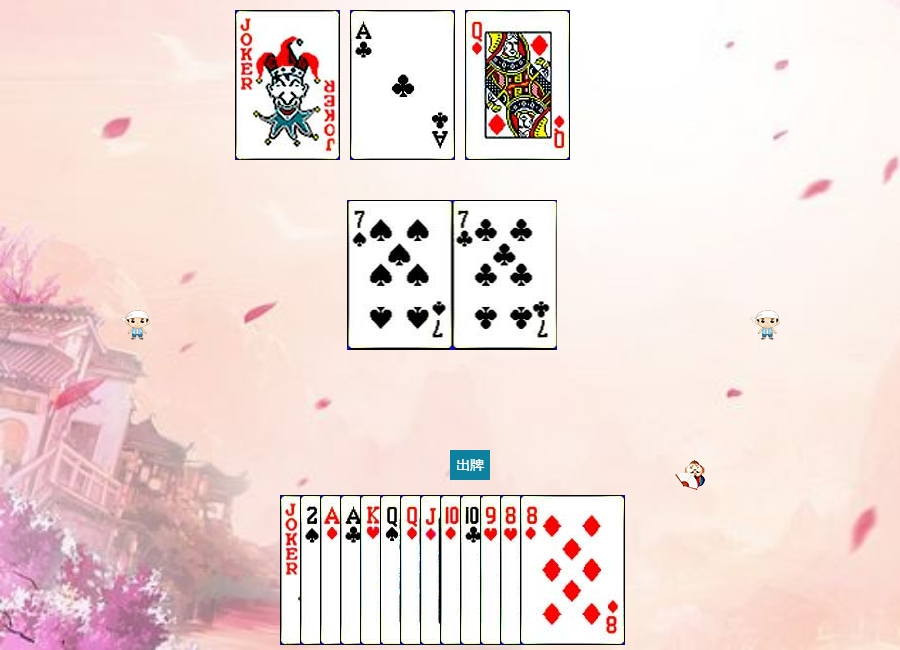10~1: (440, 495, 545, 645)
10~2: (460, 495, 565, 645)
11~1: (420, 495, 525, 645)
12~1: (465, 10, 570, 160), (400, 495, 505, 645)
12~4: (380, 495, 485, 645)
13~3: (360, 495, 465, 645)
14~1: (320, 495, 425, 645)
14~2: (350, 10, 455, 160), (340, 495, 445, 645)
15~4: (300, 495, 405, 645)
18~4: (235, 10, 340, 160), (280, 495, 385, 645)
7~2: (453, 200, 558, 350)
7~4: (348, 200, 453, 350)
8~1: (520, 495, 625, 645)
8~3: (500, 495, 605, 645)
9~3: (480, 495, 585, 645)
